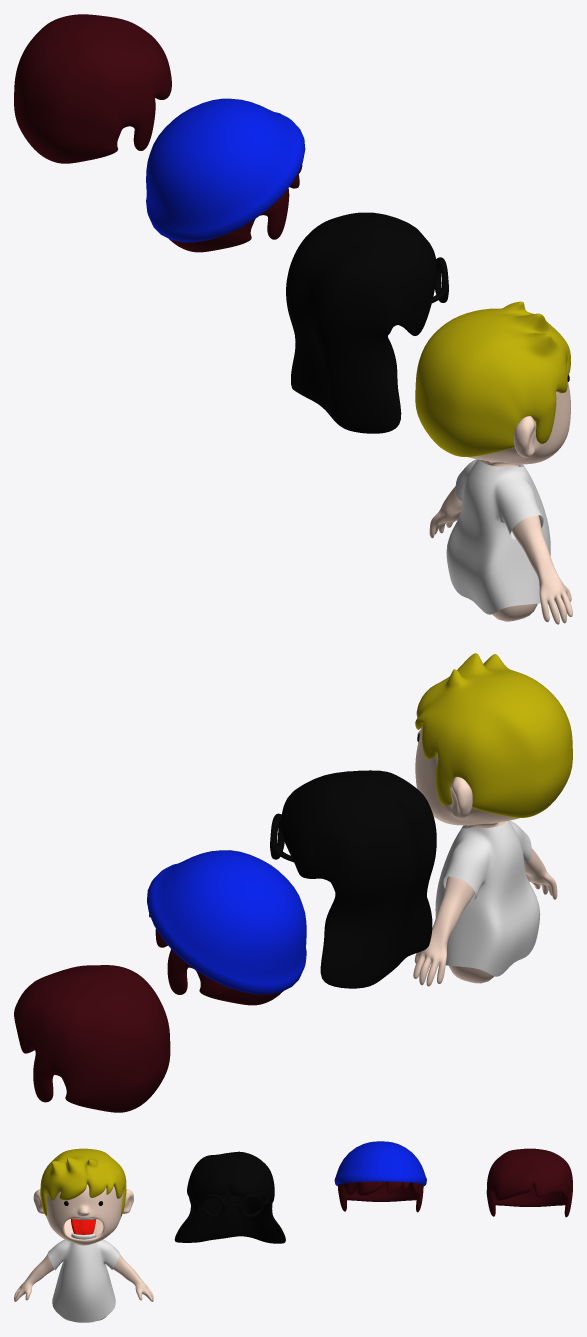
Rendered from ModeloJueguito.fbx.
The picture shows the model from 3 angles, top to bottom: view 1: azimuth 30°, elevation 25°; view 2: azimuth 150°, elevation 25°; view 3: azimuth 270°, elevation 25°; orthographic projection. The views are drawn at different scales.
Visible parts, largest first — view 1: Cube.006, Cube.017, Cube.005, Sphere.004, Cube.001, Cube, Cube.018; view 2: Cube.006, Cube.005, Cube.017, Sphere.004, Cube.001, Cube, Cube.018, Circle; view 3: Cube.006, Cube.001, Cube.017, Cube, Cube.005, Sphere.004, Cube.018, Circle, Cube.004.
Part boxes in pixels (x1=…): Cube.006: x1=286, y1=212, x2=436, y2=433; Cube.017: x1=14, y1=14, x2=171, y2=163; Cube.005: x1=415, y1=301, x2=570, y2=456; Sphere.004: x1=146, y1=98, x2=305, y2=242; Cube.001: x1=446, y1=459, x2=550, y2=614; Cube: x1=429, y1=382, x2=572, y2=624; Cube.018: x1=169, y1=163, x2=302, y2=252; Cube.006: x1=281, y1=770, x2=436, y2=988; Cube.005: x1=415, y1=653, x2=572, y2=817; Cube.017: x1=14, y1=965, x2=170, y2=1112; Sphere.004: x1=147, y1=850, x2=306, y2=994; Cube.001: x1=435, y1=820, x2=540, y2=976; Cube: x1=413, y1=726, x2=557, y2=986; Cube.018: x1=149, y1=914, x2=283, y2=1005; Circle: x1=270, y1=813, x2=293, y2=862; Cube.006: x1=174, y1=1151, x2=285, y2=1243; Cube.001: x1=47, y1=1239, x2=119, y2=1322; Cube.017: x1=486, y1=1148, x2=572, y2=1217; Cube: x1=14, y1=1184, x2=153, y2=1320; Cube.005: x1=40, y1=1148, x2=126, y2=1216; Sphere.004: x1=334, y1=1141, x2=426, y2=1186; Cube.018: x1=338, y1=1181, x2=423, y2=1212; Circle: x1=195, y1=1194, x2=269, y2=1217; Cube.004: x1=71, y1=1218, x2=95, y2=1234.
Size of the model in its own units: 281 by 568 by 1674.
